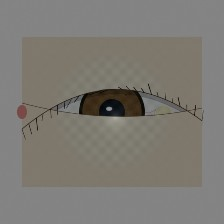pinguecula_lesion: (148, 100, 179, 125)
